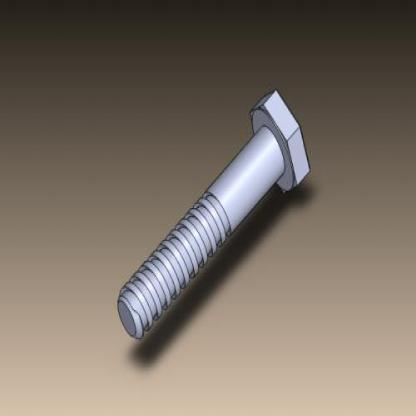FOD: (115, 87, 312, 342)
